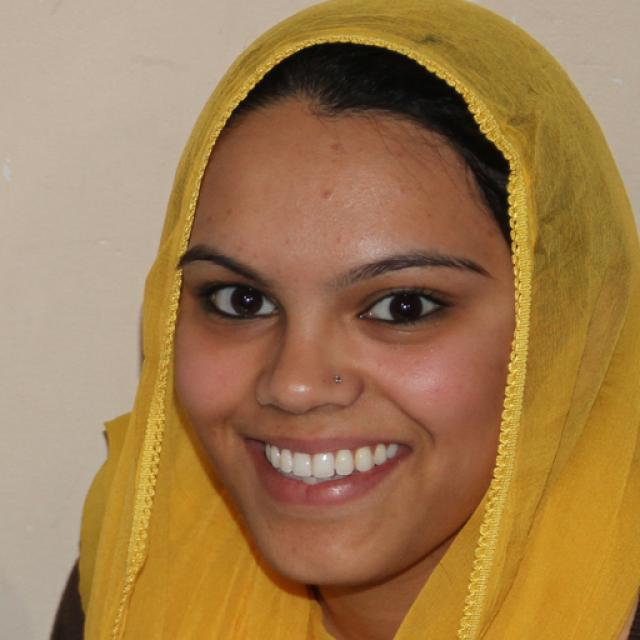Acne: (315, 188, 334, 204)
